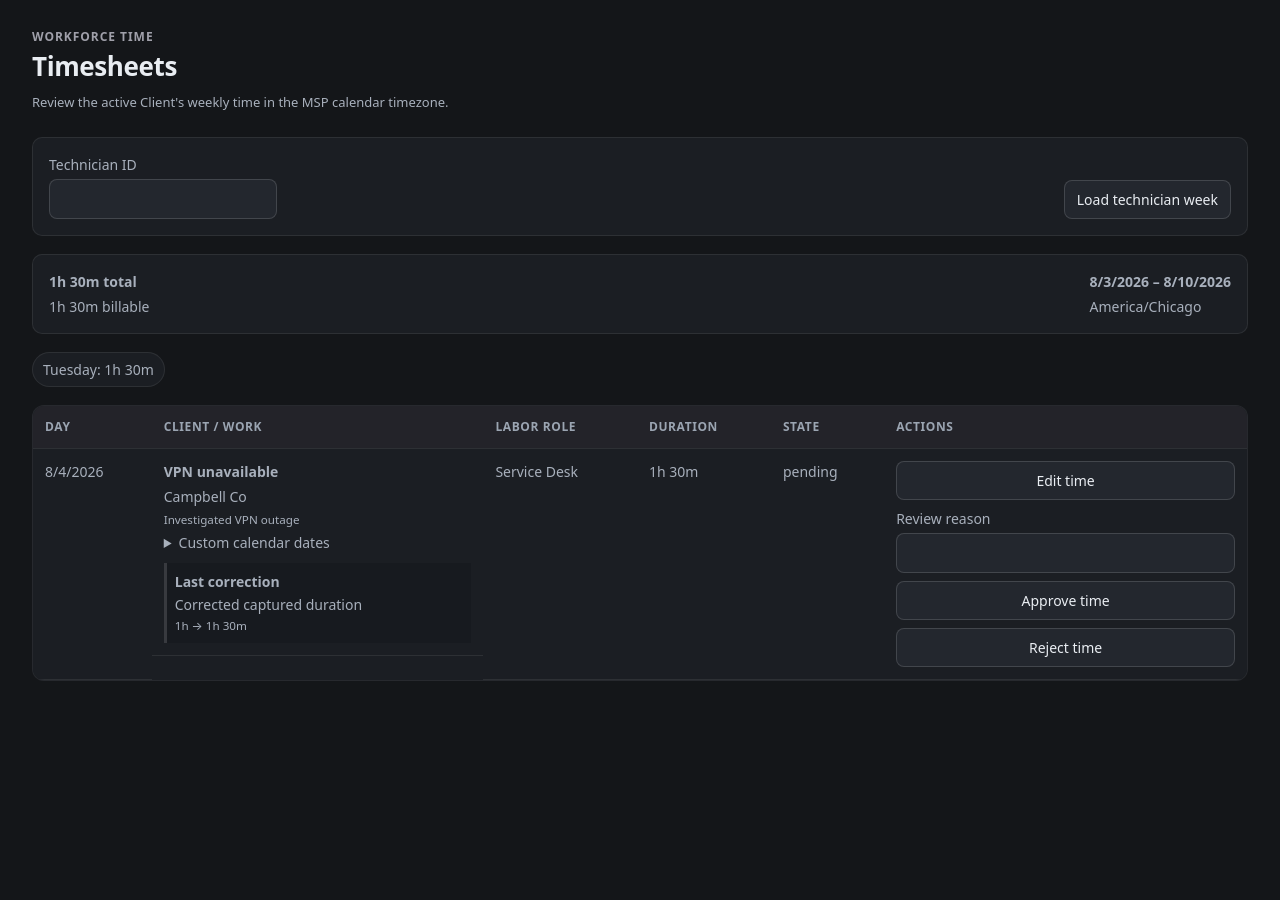
Test: TimesheetPage › lets a scoped reviewer approve a technician week
Expected: the text "VPN unavailable" is shown, [164,462,278,481]
Expected: the text "Corrected captured duration" is shown, [175,595,362,614]
Type "technician-2" into the field labelled "Technician ID" at (163, 199), box [49,179,277,219]
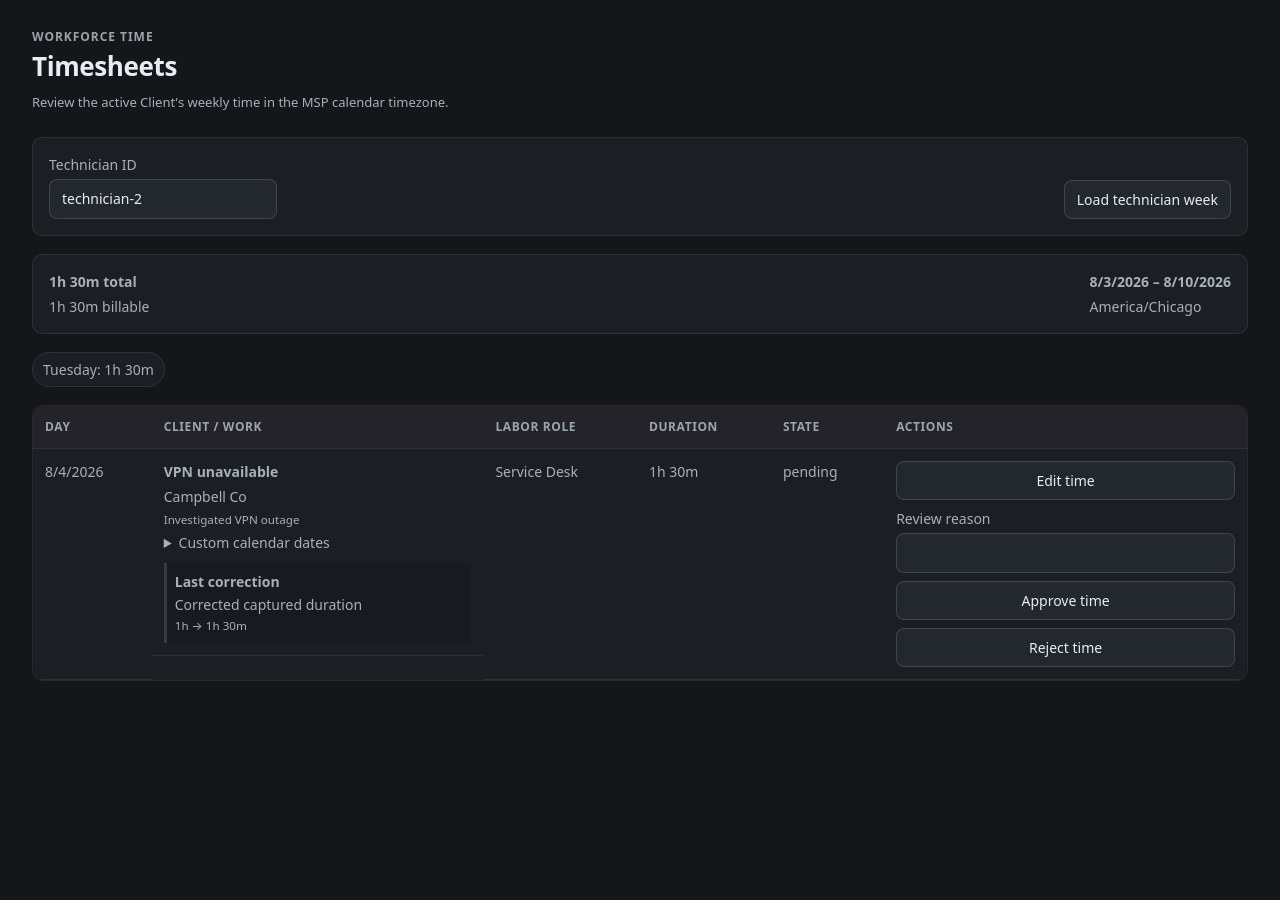
Type "Matches support activity" into the field labelled "Review reason" at (1066, 553), box [896,533,1235,573]
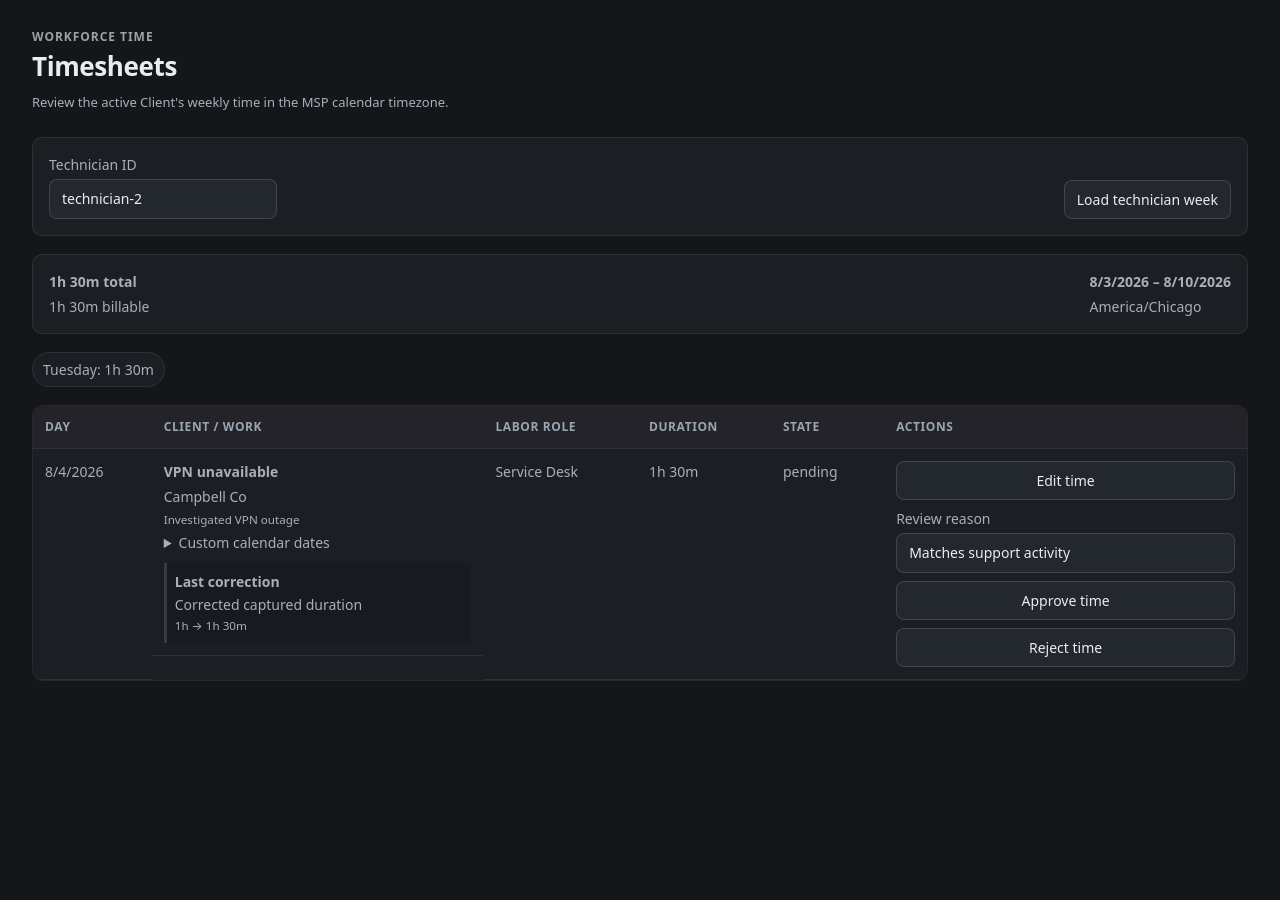
Click the button "Approve time" at (1066, 600), box [896,581,1235,620]
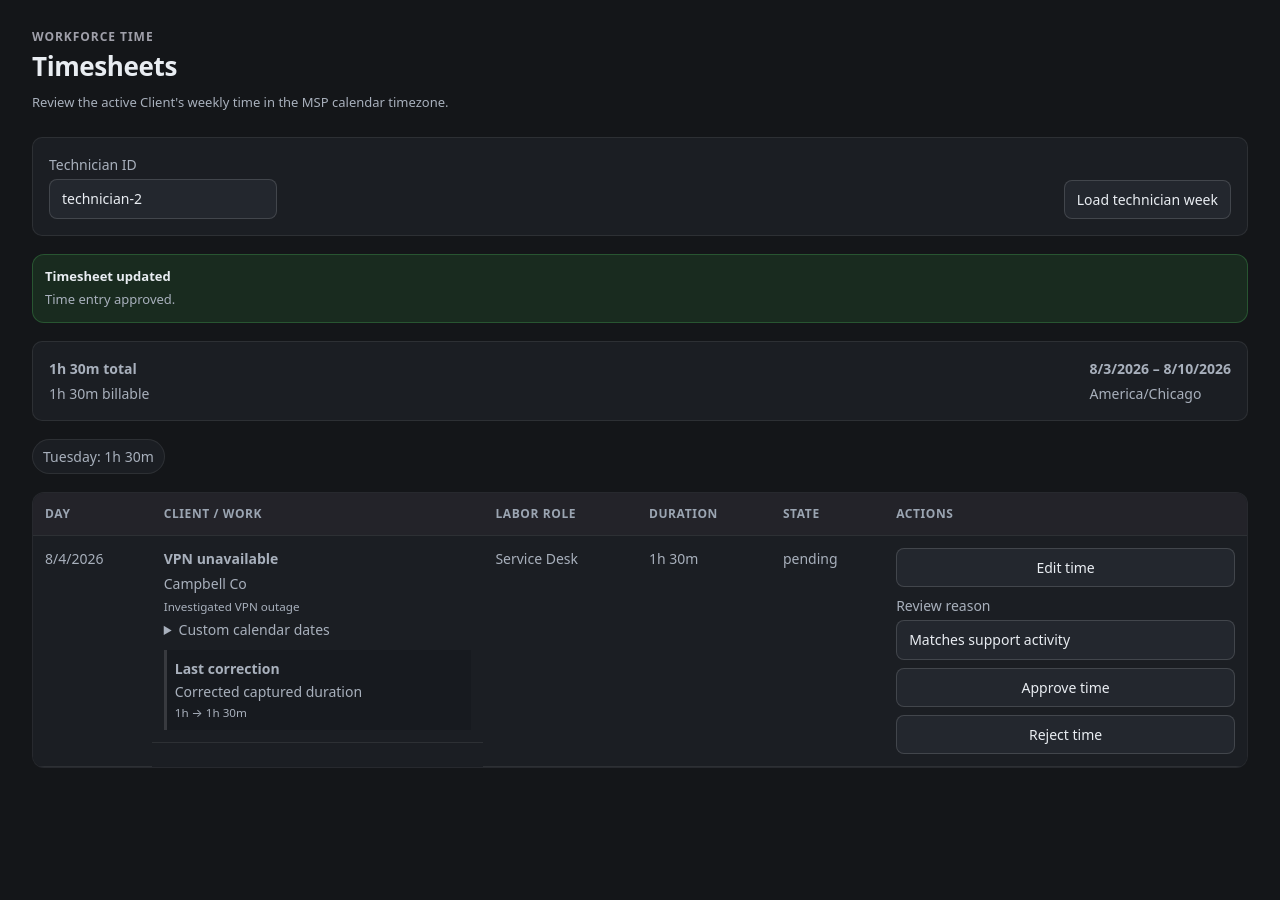
Expected: the text "Time entry approved." is shown, [45,290,175,308]
